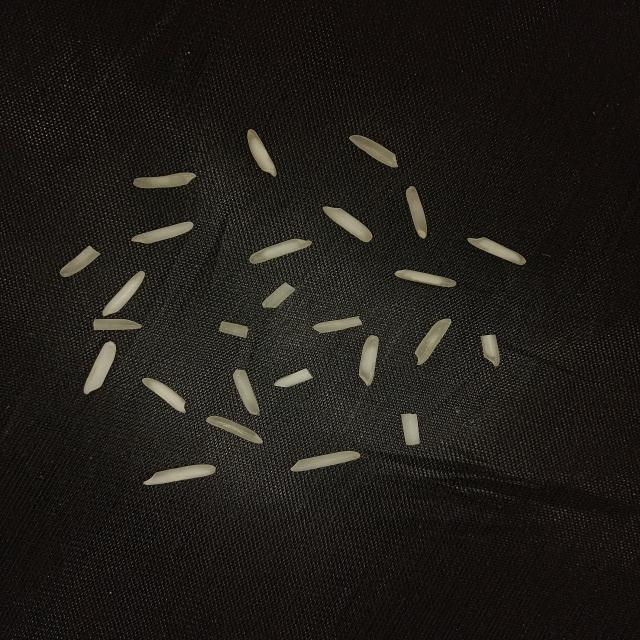Broken: (59, 245, 102, 278), (232, 369, 260, 415), (262, 282, 296, 309), (313, 316, 363, 333), (273, 368, 313, 388), (480, 335, 500, 367), (401, 414, 420, 446), (218, 320, 248, 338), (94, 319, 142, 330)
Full: (102, 270, 145, 317), (322, 206, 373, 242), (415, 318, 453, 366), (349, 134, 399, 168), (84, 341, 116, 394), (141, 377, 188, 413), (206, 415, 263, 444), (467, 237, 526, 265), (143, 464, 216, 486), (249, 239, 313, 264), (290, 450, 361, 472), (246, 129, 278, 177), (131, 221, 195, 245), (405, 185, 428, 239), (394, 270, 458, 288), (133, 172, 197, 189), (358, 334, 378, 386)
